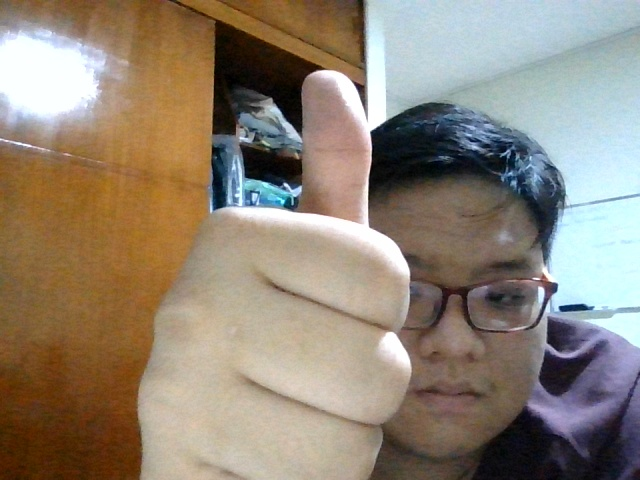si: (126, 68, 422, 476)
